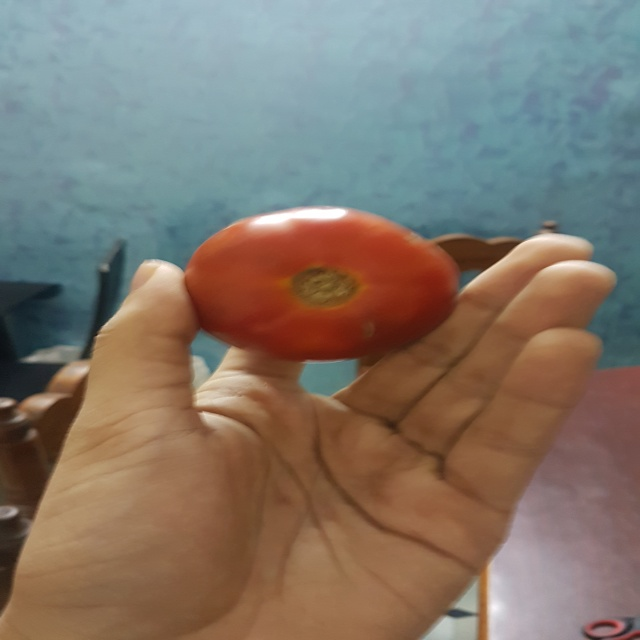tomato: (172, 190, 465, 375)
